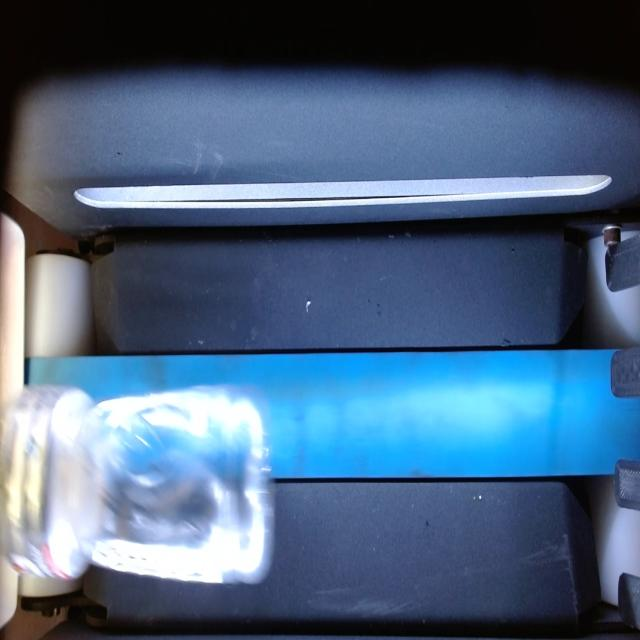bottom: (91, 387, 271, 582)
label: (0, 387, 84, 580)
